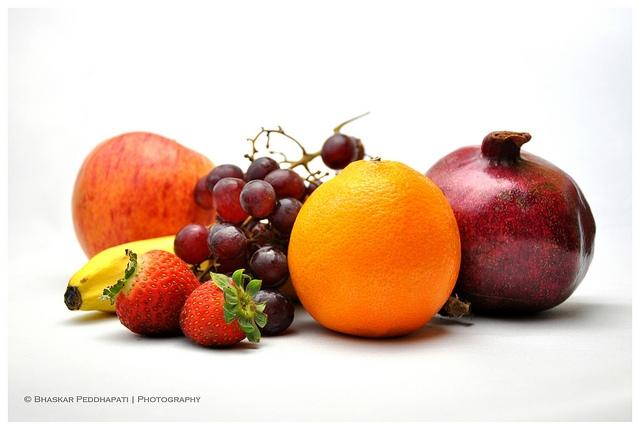apple: (71, 132, 216, 261)
banana: (64, 234, 210, 312)
grape: (251, 290, 295, 336), (212, 177, 250, 224), (250, 246, 289, 286), (174, 224, 212, 264), (240, 180, 278, 218), (264, 168, 306, 202), (321, 134, 359, 170), (268, 197, 303, 234), (205, 164, 244, 197), (210, 226, 248, 259), (206, 221, 244, 254), (244, 157, 280, 183), (248, 222, 272, 254), (194, 174, 213, 210), (217, 252, 247, 272), (308, 180, 324, 196)
orange: (288, 156, 462, 338)
strawberry: (98, 250, 202, 336), (179, 269, 268, 348)
